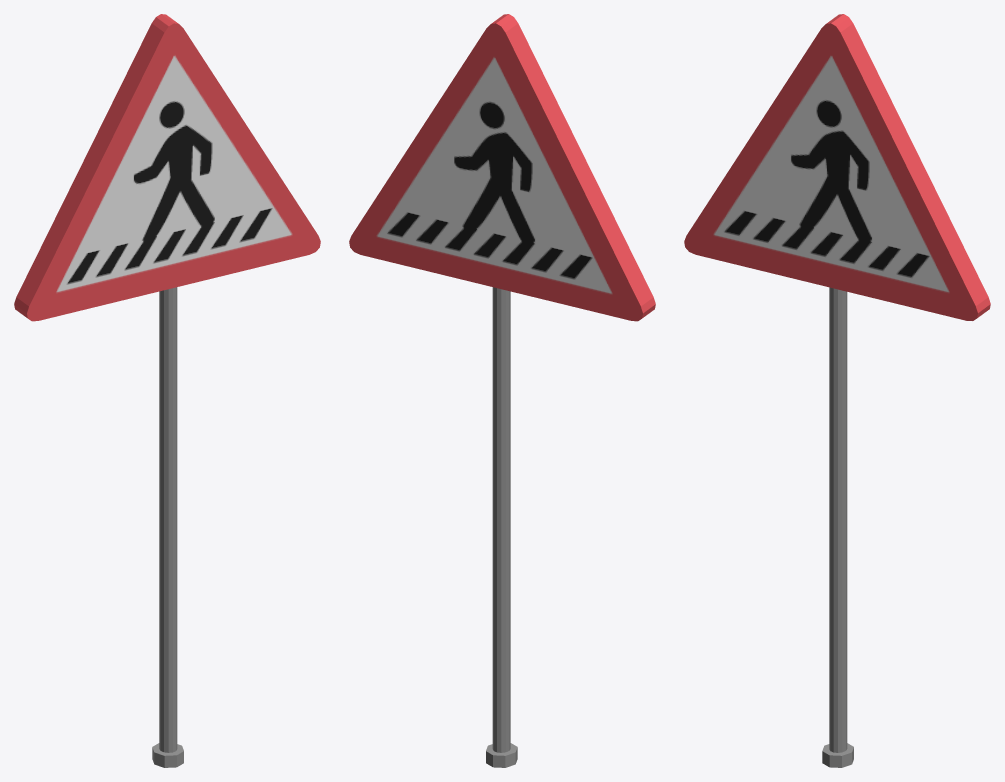
The model's file is D1_TRAFFIC_SIGN_2.fbx.
The picture shows the model from 3 angles, left to right: view 1: azimuth 30°, elevation 25°; view 2: azimuth 150°, elevation 25°; view 3: azimuth 330°, elevation 25°; orthographic projection.
Visible parts, largest first — view 1: D1_SIGNAGE_CROSSWALK; view 2: D1_SIGNAGE_CROSSWALK; view 3: D1_SIGNAGE_CROSSWALK.
Boxes of the visible parts, x1=… form: D1_SIGNAGE_CROSSWALK: x1=14, y1=14, x2=320, y2=767; D1_SIGNAGE_CROSSWALK: x1=349, y1=14, x2=655, y2=767; D1_SIGNAGE_CROSSWALK: x1=684, y1=14, x2=990, y2=767.
Size of the model in its own units: 117 by 282 by 11.91.
Materials: 2 (1 with a texture image).
